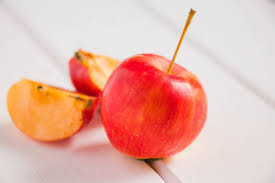apple: (110, 56, 206, 160)
